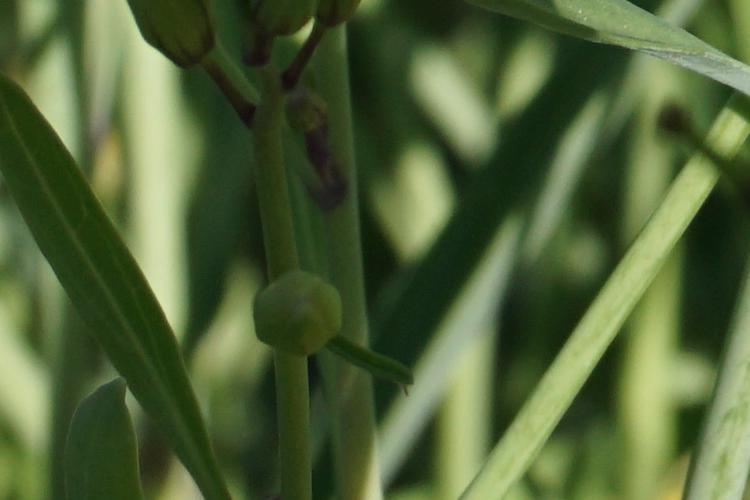bud: (242, 267, 351, 347), (136, 1, 216, 62), (246, 6, 307, 53), (319, 5, 370, 32)
